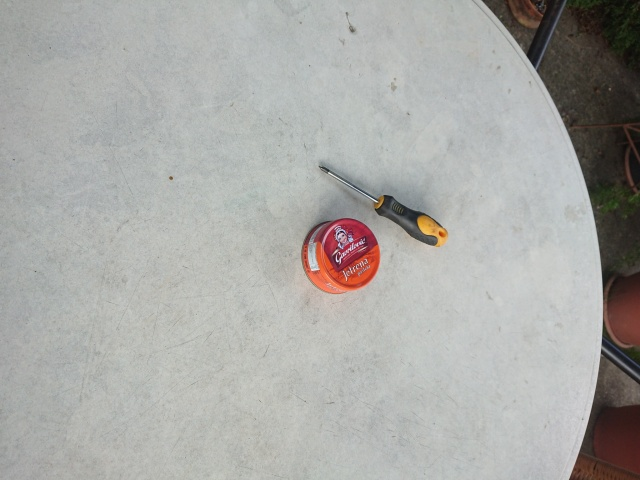Gavrilovic Pork Liver Pate 100g: (299, 215, 382, 296)
